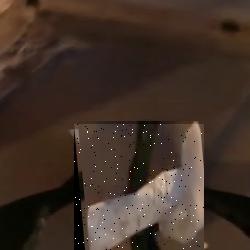restaffald: (74, 124, 204, 250)
